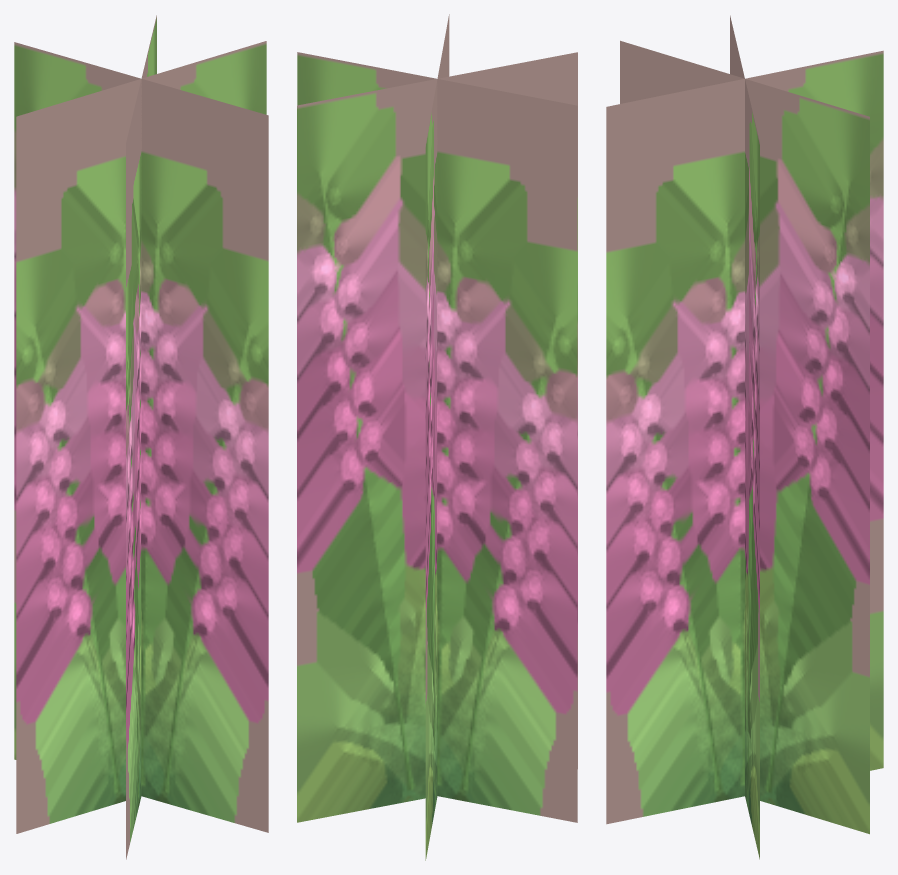
Rendered from perennial_foxglove.glb.
3 renders of one model, left to right at view 1: azimuth 30°, elevation 25°; view 2: azimuth 150°, elevation 25°; view 3: azimuth 270°, elevation 25°, orthographic.
Visible parts, largest first — view 1: perennial_foxglove; view 2: perennial_foxglove; view 3: perennial_foxglove.
Boxes of the visible parts, x1,y1,x2,y2 form: perennial_foxglove: (14,15,268,859); perennial_foxglove: (297,14,577,860); perennial_foxglove: (606,15,883,859).
Size of the model in its own units: 0.2786 by 0.72 by 0.2524.
Materials: 1 (1 with a texture image).
